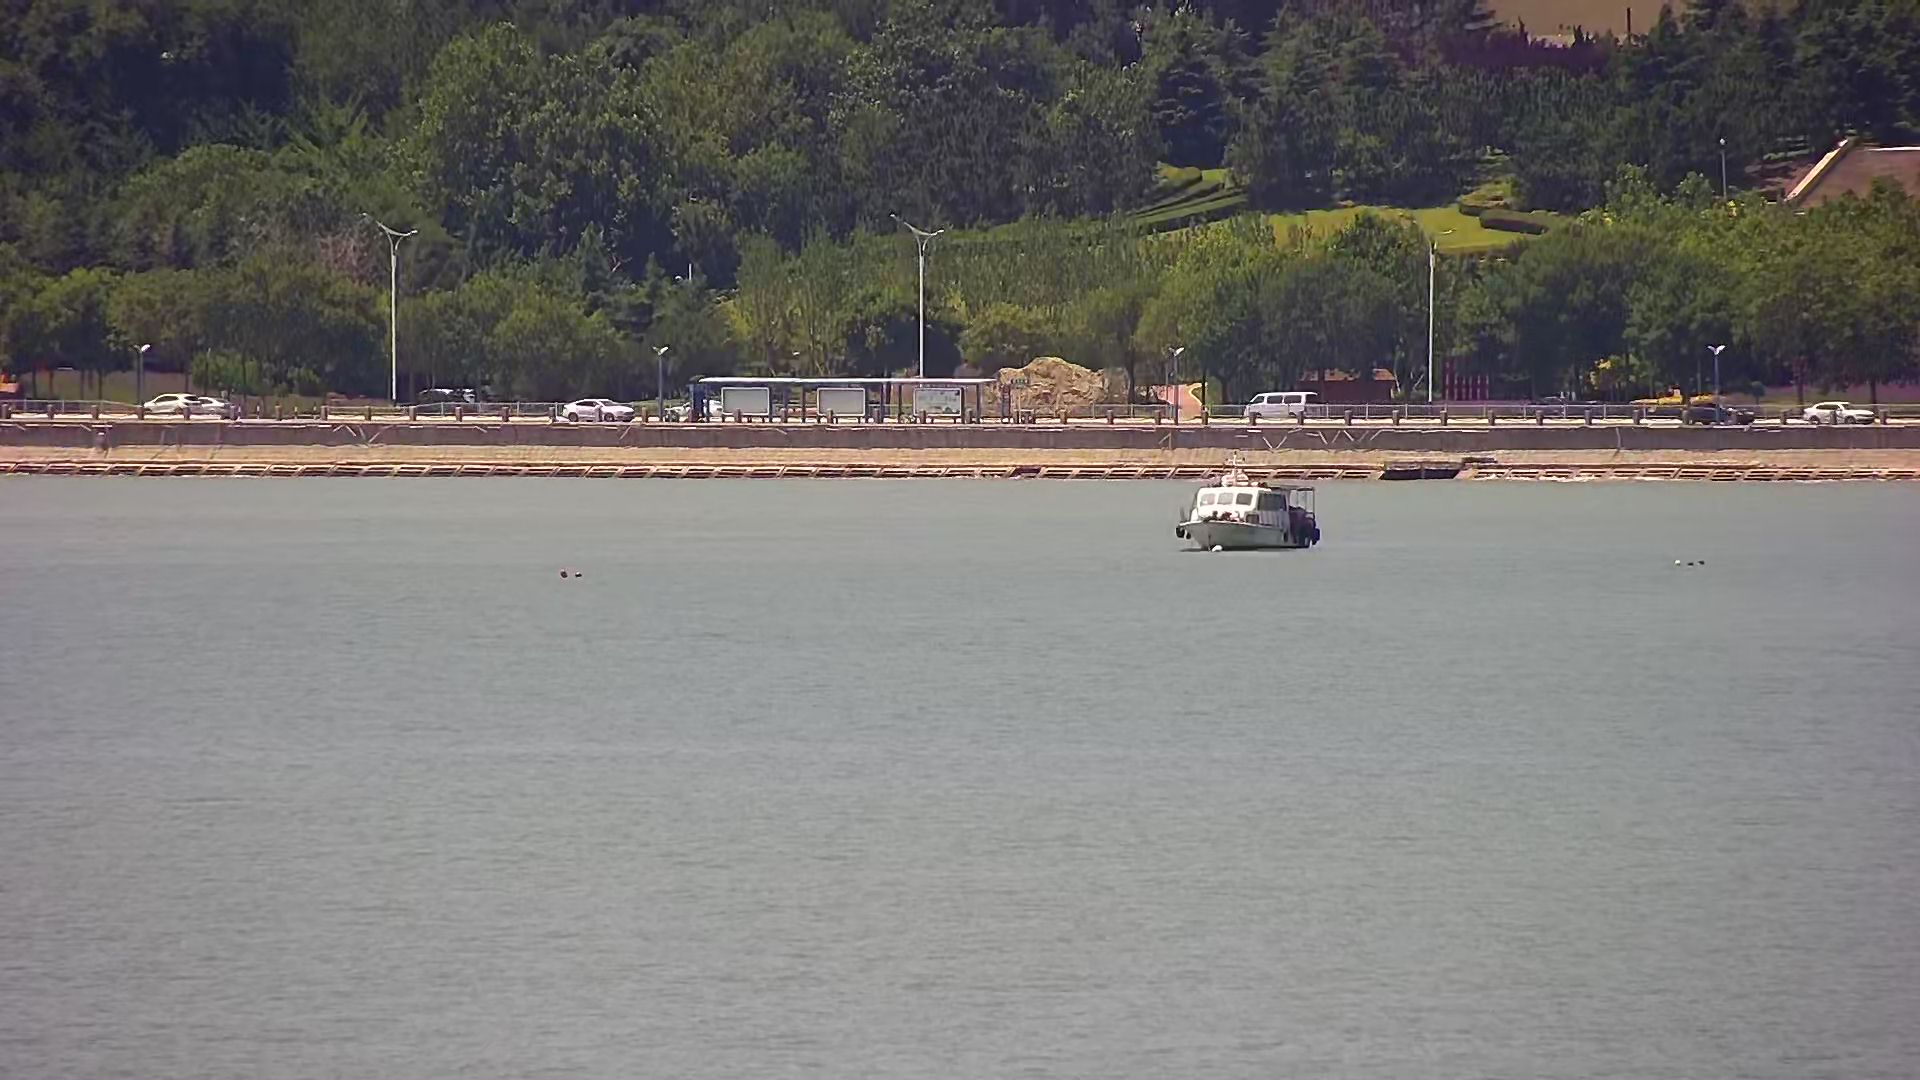ship: (1167, 454, 1331, 560)
